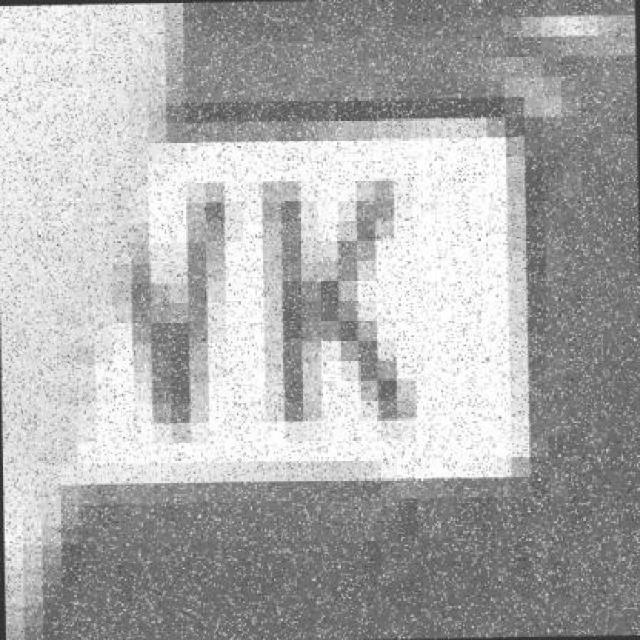licenseplate: (86, 60, 546, 494)
